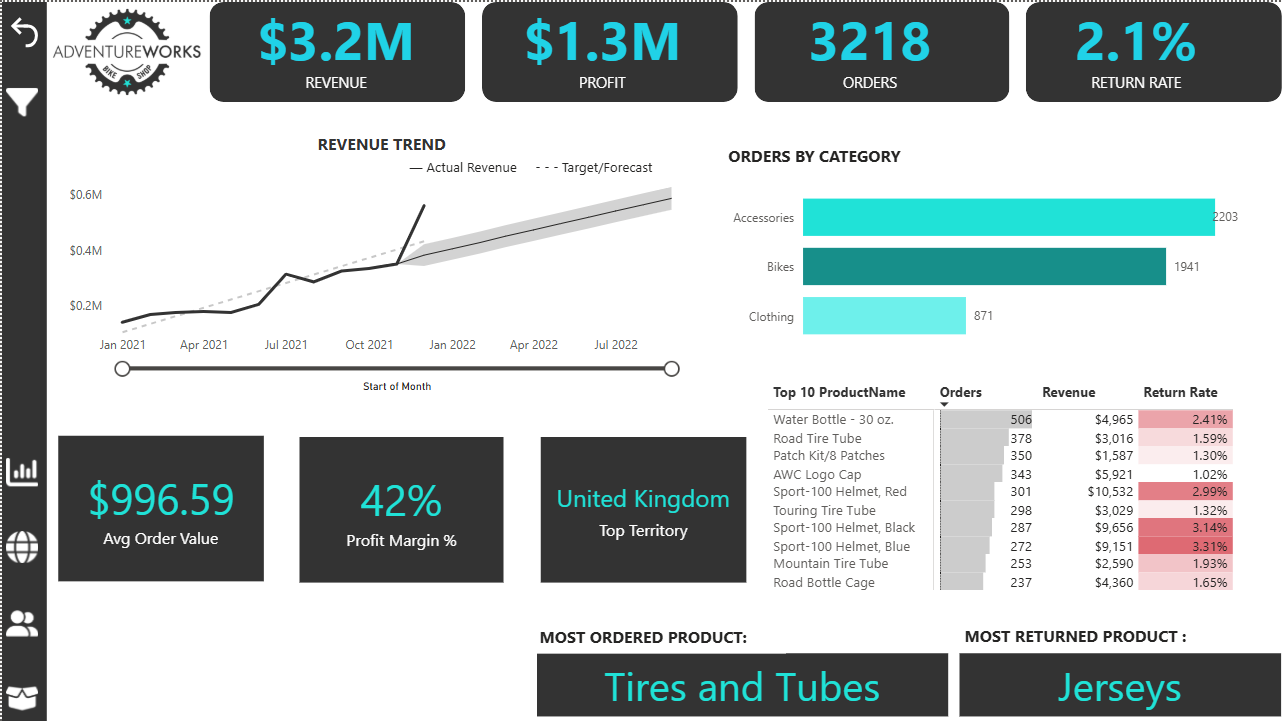

The dashboard page shown, as its layout file describes it:
{"tool":"powerbi","page":{"name":"Executive","canvas":[1280,720],"ordinal":0},"visuals":[{"type":"group","id":"g1","title":"KPI Backgrounds","box":[12.2,0,1267,100],"z":0,"group":"g3"},{"type":"image","title":"LOGO","box":[12.2,0,226.2,100],"z":0,"group":"g1"},{"type":"card","fields":{"Values":["Measure Table (2).Totoal Revenue"]},"box":[188,0,291.2,91.2],"z":0,"group":"g2"},{"type":"actionButton","box":[0,450,45.2,40.4],"z":0,"group":"g4"},{"type":"shape","title":"Left NAV Back","box":[0,0,45,720],"z":1000},{"type":"group","id":"g2","title":"KPI VALUES","box":[188,0,1090.9,91.2],"z":1000,"group":"g3"},{"type":"shape","box":[479.7,0,255.7,100],"z":1000,"group":"g1"},{"type":"card","fields":{"Values":["Measure Table (2).Total orders"]},"box":[721.3,0,291.2,91.2],"z":1000,"group":"g2"},{"type":"actionButton","box":[0,525.4,45.2,40.4],"z":1000,"group":"g4"},{"type":"group","id":"g3","title":"KPI","box":[12.2,0,1268.1,100.3],"z":2000},{"type":"shape","box":[207.8,0,255.7,100],"z":2000,"group":"g1"},{"type":"card","fields":{"Values":["Measure Table (2).Return Rate"]},"box":[987.7,0,291.2,91.2],"z":2000,"group":"g2"},{"type":"actionButton","box":[0,600.8,45.2,40.4],"z":2000,"group":"g4"},{"type":"card","fields":{"Values":["Measure Table (2).Total Profit"]},"box":[454.7,0,291.2,91.2],"z":3000,"group":"g2"},{"type":"shape","box":[751.7,0,255,100],"z":3000,"group":"g1"},{"type":"lineChart","title":"REVENUE TREND","fields":{"Y":["Measure Table (2).Totoal Revenue"],"Category":["Calendar Lookup.Start of Year","Calendar Lookup.Start of Quarter","Calendar Lookup.Start of Month"]},"box":[62.9,130,634.3,264.3],"z":3000},{"type":"actionButton","box":[0,676,45.2,40.4],"z":3000,"group":"g4"},{"type":"shape","box":[1022.9,0,256.2,100],"z":4000,"group":"g1"},{"type":"clusteredBarChart","title":"ORDERS BY CATEGORY","fields":{"Category":["Product Categories Lookup.CategoryName"],"Y":["Measure Table (2).Total orders"]},"box":[721.8,142.7,520.1,216.8],"z":4000},{"type":"pivotTable","fields":{"Rows":["Product Lookup.ProductName"],"Values":["Measure Table (2).Total orders","Measure Table (2).Totoal Revenue","Measure Table (2).Return Rate"]},"box":[761.6,376,489.9,222.3],"z":5000},{"type":"card","fields":{"Values":["Min(Product Subcategories Lookup.SubcategoryName)"]},"box":[535.6,651.8,410.9,63.6],"z":6000},{"type":"textbox","box":[532.5,618.8,251.2,32.5],"z":7000},{"type":"card","fields":{"Values":["Min(Product Subcategories Lookup.SubcategoryName)"]},"box":[957.5,651.8,321.6,63.6],"z":8000},{"type":"textbox","box":[957.5,617.5,238.8,32.5],"z":9000},{"type":"actionButton","box":[2.1,9.8,53.8,40.4],"z":10000},{"type":"group","id":"g4","title":"Navigation buttons","box":[0,450,45.2,265.4],"z":11000},{"type":"actionButton","box":[0,79.5,62.4,40.4],"z":12000},{"type":"textbox","box":[402.3,151.6,265.4,28.1],"z":14000},{"type":"card","fields":{"Values":["Measure Table (2).Avg Order Value"]},"box":[56.3,434.1,205.4,145.5],"z":15000},{"type":"card","fields":{"Values":["Measure Table (2).Profit Margin %"]},"box":[297.9,434.6,204.2,145.5],"z":16000},{"type":"card","fields":{"Values":["Measure Table (2).Top Territory"]},"box":[538.3,434.8,205.4,145.5],"z":17000}]}

Visuals, with their boxes in screenshot pixels (x1, y1, x2, y2), scaled from the page's 1280x720 canvas onto the 1282x721 screenshot:
"KPI Backgrounds" group: 12/0/1281/100
"LOGO" image: 12/0/239/100
card - Measure Table (2).Totoal Revenue: 188/0/480/91
actionButton: 0/451/45/491
"Left NAV Back" shape: 0/0/45/720
"KPI VALUES" group: 188/0/1281/91
shape: 480/0/737/100
card - Measure Table (2).Total orders: 722/0/1014/91
actionButton: 0/526/45/567
"KPI" group: 12/0/1281/100
shape: 208/0/464/100
card - Measure Table (2).Return Rate: 989/0/1281/91
actionButton: 0/602/45/642
card - Measure Table (2).Total Profit: 455/0/747/91
shape: 753/0/1008/100
"REVENUE TREND" lineChart: 63/130/698/395
actionButton: 0/677/45/717
shape: 1024/0/1281/100
"ORDERS BY CATEGORY" clusteredBarChart: 723/143/1244/360
pivotTable - Product Lookup.ProductName x Measure Table (2).Total orders: 763/377/1253/599
card - Min(Product Subcategories Lookup.SubcategoryName): 536/653/948/716
textbox: 533/620/785/652
card - Min(Product Subcategories Lookup.SubcategoryName): 959/653/1281/716
textbox: 959/618/1198/651
actionButton: 2/10/56/50
"Navigation buttons" group: 0/451/45/716
actionButton: 0/80/62/120
textbox: 403/152/669/180
card - Measure Table (2).Avg Order Value: 56/435/262/580
card - Measure Table (2).Profit Margin %: 298/435/503/581
card - Measure Table (2).Top Territory: 539/435/745/581
